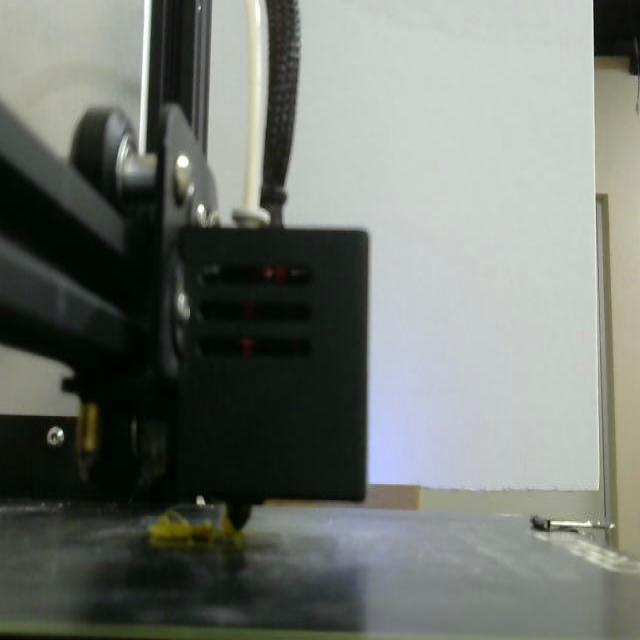spaghetti: (148, 510, 245, 548)
